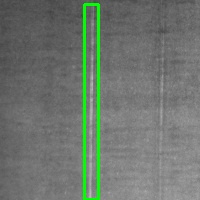scratches: (84, 4, 98, 199)
